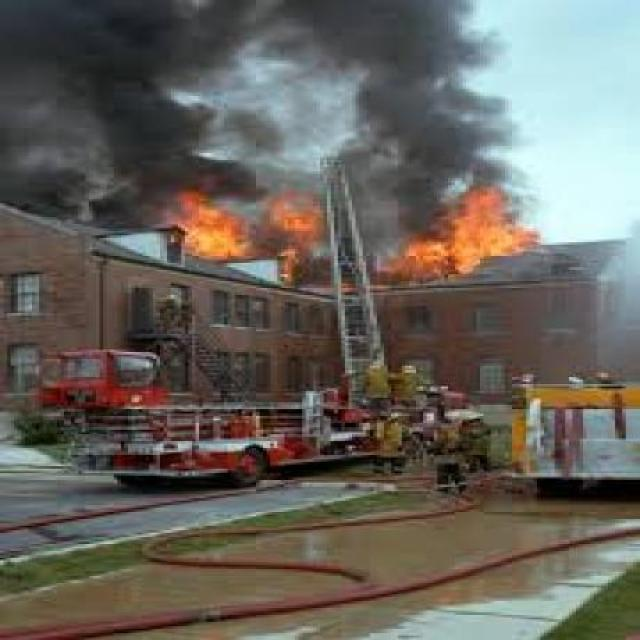Fire: (378, 186, 536, 286), (172, 178, 326, 280)
Smoke: (4, 0, 280, 176), (280, 0, 528, 182)
